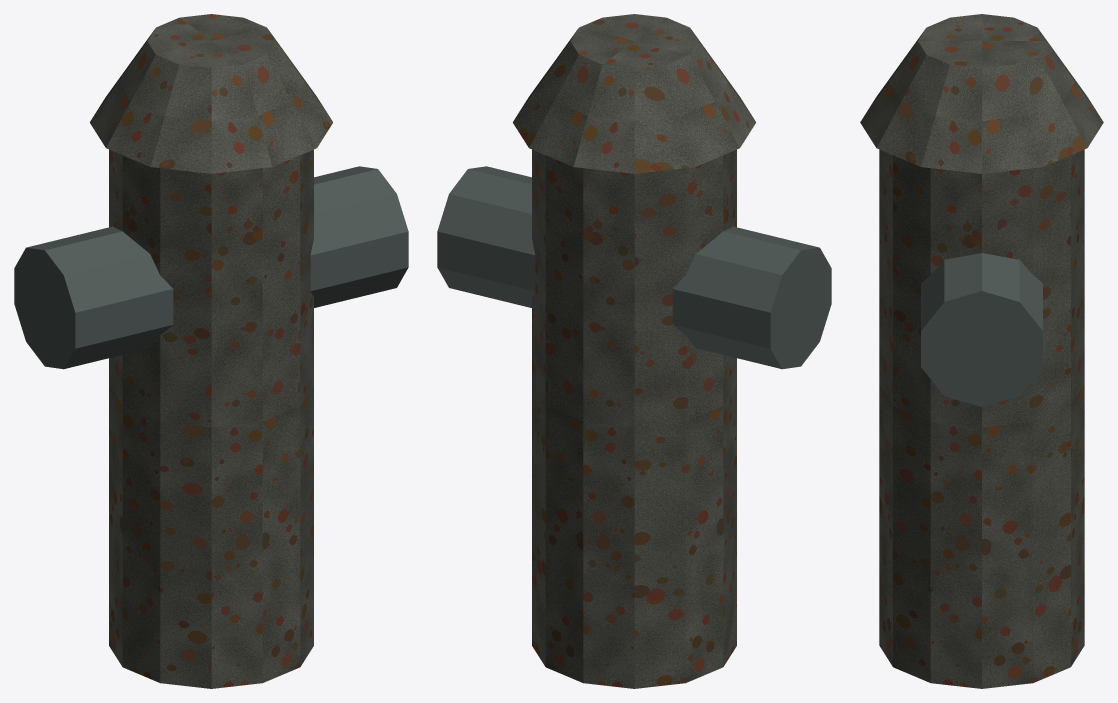
Rendered from hydrant.glb.
3 views of the same model, side by side, from view 1: azimuth 30°, elevation 25°; view 2: azimuth 150°, elevation 25°; view 3: azimuth 270°, elevation 25° (orthographic).
Visible parts, largest first — view 1: hydrant / Weathered industrial steel, hydrant / Ironwork; view 2: hydrant / Weathered industrial steel, hydrant / Ironwork; view 3: hydrant / Weathered industrial steel, hydrant / Ironwork.
Boxes of the visible parts, box(x1,y1,x2,y2) form: hydrant / Weathered industrial steel: box(90, 14, 332, 688); hydrant / Ironwork: box(14, 166, 408, 369); hydrant / Weathered industrial steel: box(513, 14, 755, 688); hydrant / Ironwork: box(437, 166, 831, 369); hydrant / Weathered industrial steel: box(860, 14, 1103, 688); hydrant / Ironwork: box(921, 253, 1042, 406).
Bounding box in the file's own units: 0.6 × 1.04 × 0.38.
2 materials, 1 textured.
